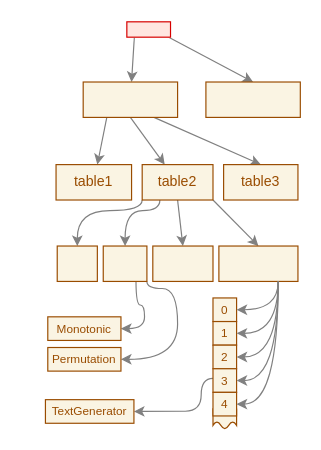
This 321x450 diagram has some shape labels left out. The centre of each missing label's shape, as x and y in pixels:
"cid" goes at (124,263).
"description" goes at (258,263).
"id" goes at (76,263).
"label" goes at (182,263).
"schema1" goes at (130,99).
"schema2" goes at (252,99).
